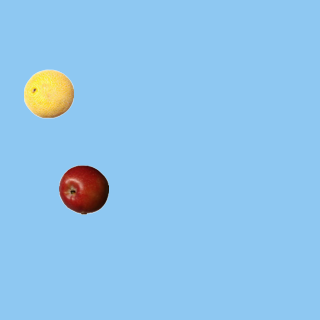Apple Braeburn: (58, 164, 108, 214)
Cantaloupe 1: (23, 68, 73, 118)
